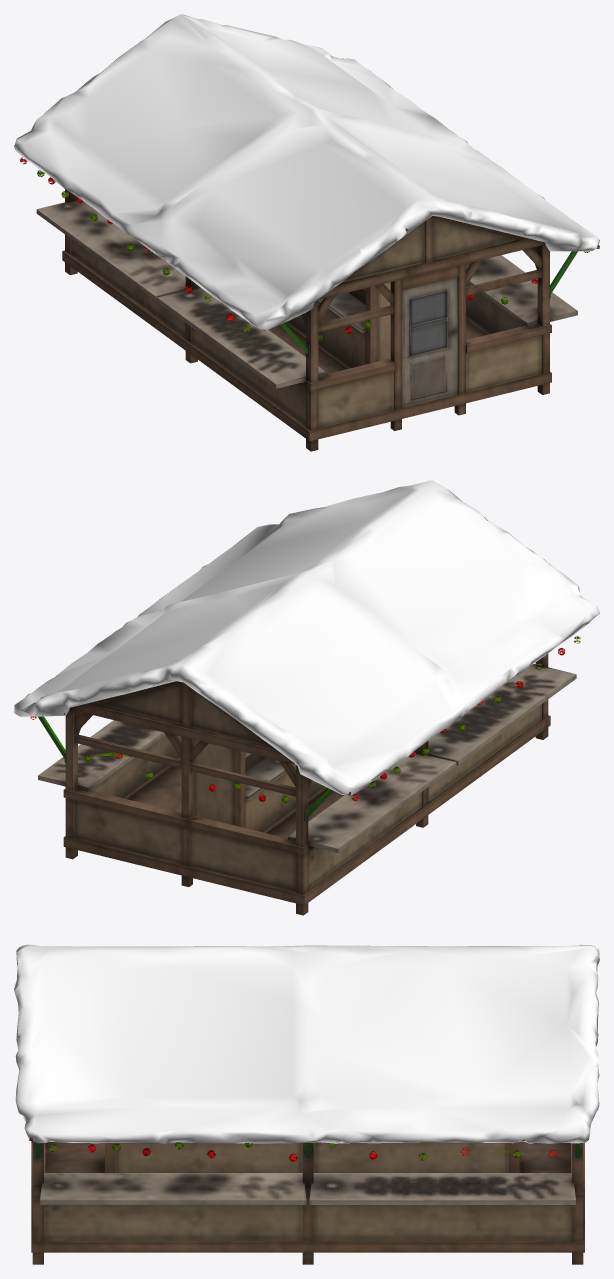
The model's file is christmas-market-backup.glb.
The picture shows the model from 3 angles, top to bottom: view 1: azimuth 30°, elevation 25°; view 2: azimuth 150°, elevation 25°; view 3: azimuth 270°, elevation 25°; orthographic projection. The views are drawn at different scales.
Visible parts, largest first — view 1: anim12:Mesh; view 2: anim12:Mesh; view 3: anim12:Mesh.
Boxes of the visible parts, bbox=[...] form: anim12:Mesh: bbox=[14, 14, 599, 451]; anim12:Mesh: bbox=[14, 480, 599, 915]; anim12:Mesh: bbox=[14, 944, 599, 1264].
Size of the model in its own units: 6.09 by 3.8 by 7.99.
5 materials, 4 textured.
